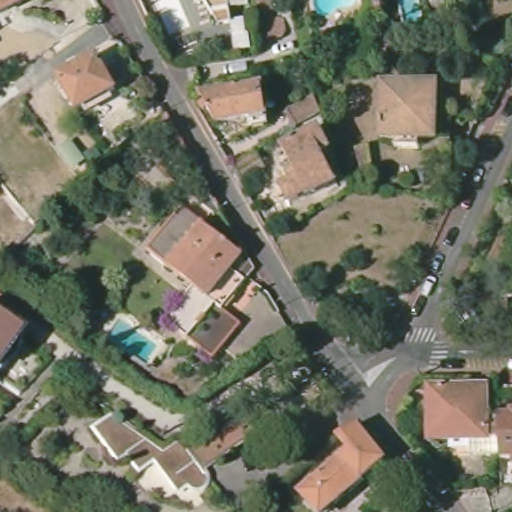pool: (107, 318, 158, 365), (311, 1, 360, 18), (397, 1, 426, 25)
